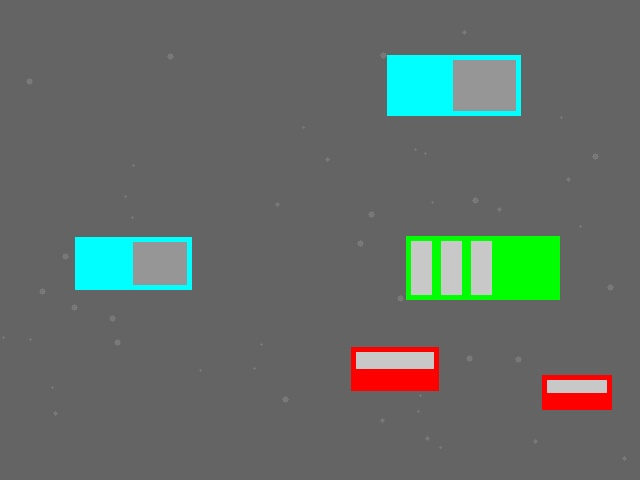bus: (406, 236, 559, 299)
car: (351, 347, 438, 390), (542, 375, 611, 409)
truck: (387, 55, 520, 115), (75, 237, 191, 289)
